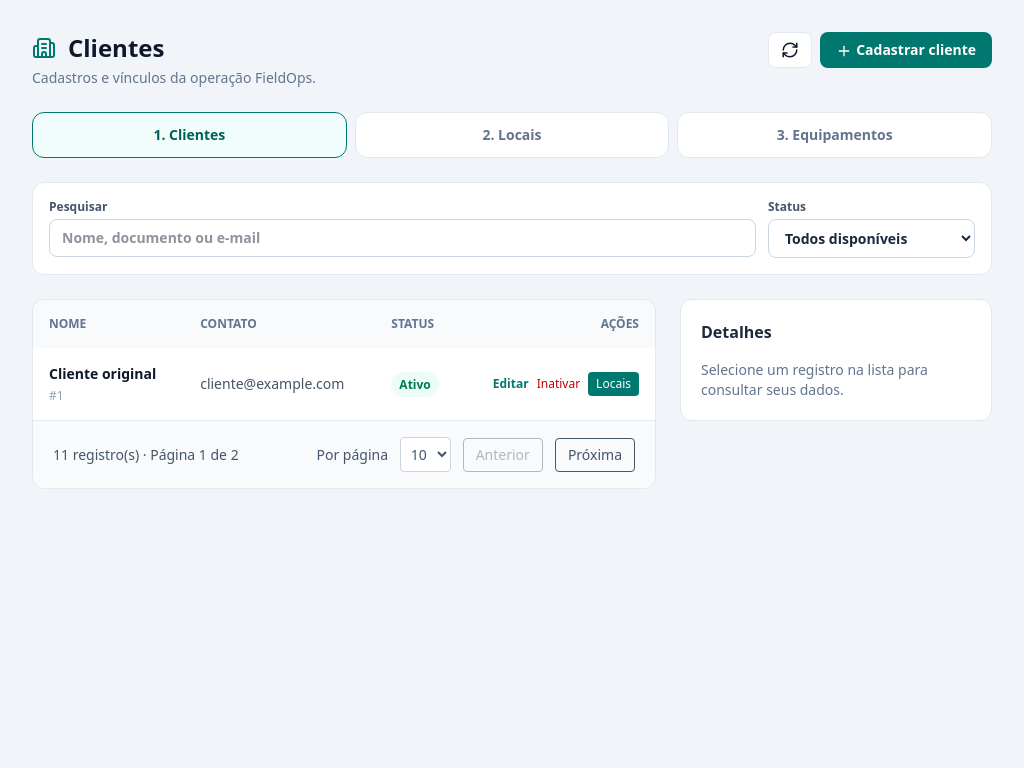
Test: preserva os dados e mantém o formulário aberto quando a API rejeita a edição
Click the button titled "Editar cliente". click: (511, 384)
box: [493, 372, 529, 396]
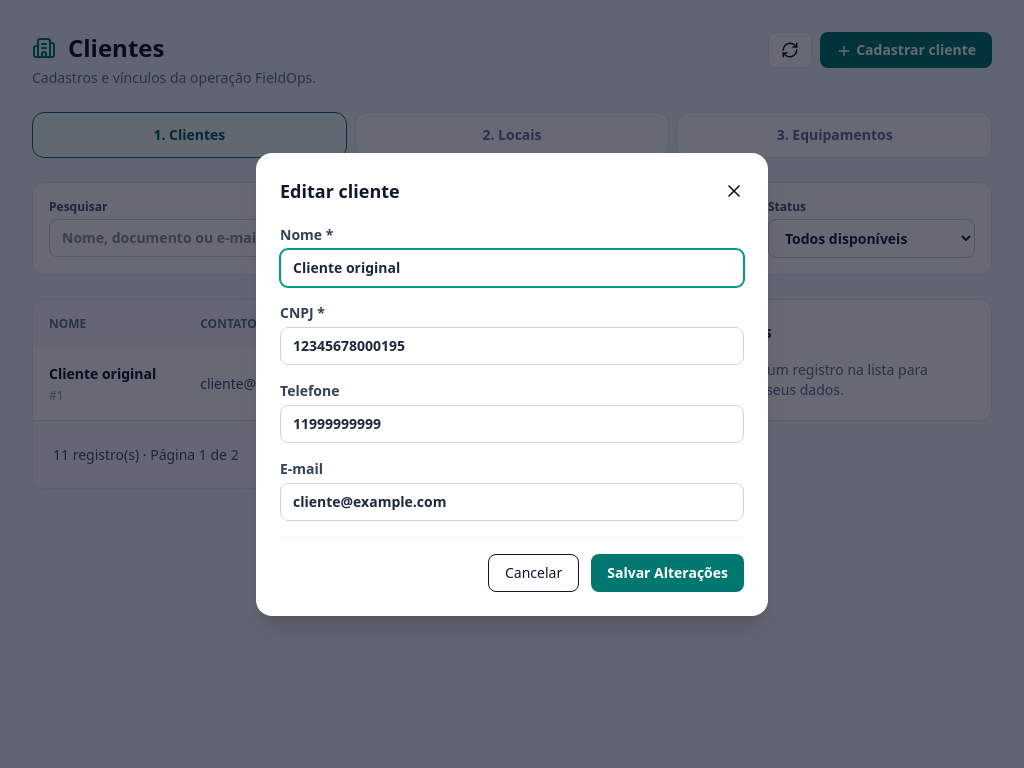
Replace the text in the field showing "Cliente original" with "Nome alterado". click: (512, 268)
box: [280, 248, 744, 286]
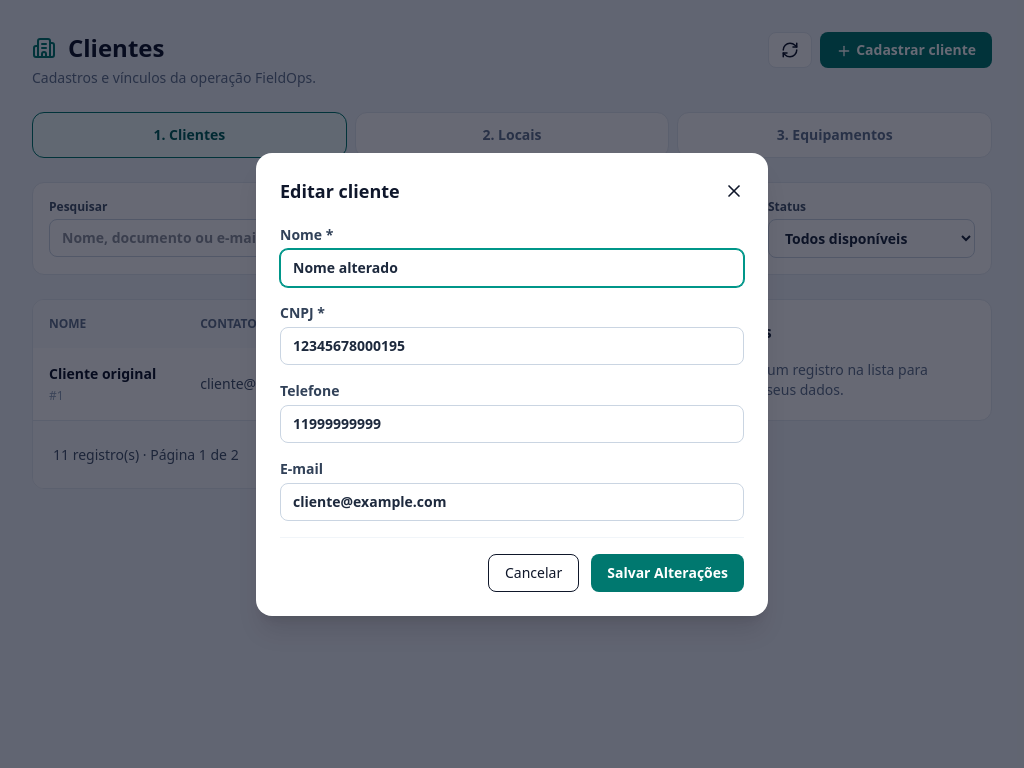
Click the button "Salvar Alterações". click: (668, 572)
box: [591, 554, 744, 592]
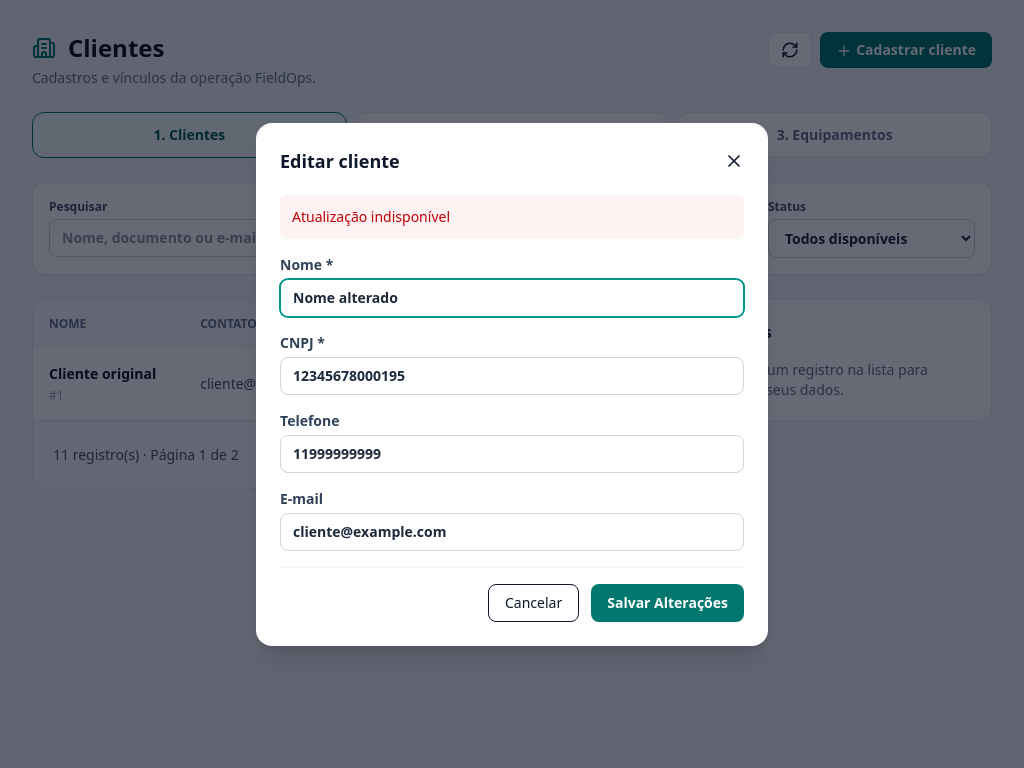
Expected: the button "Cliente original" is shown, [49, 364, 156, 384]
Result: the message reads "Atualização indisponível" at [292, 206, 450, 226]
